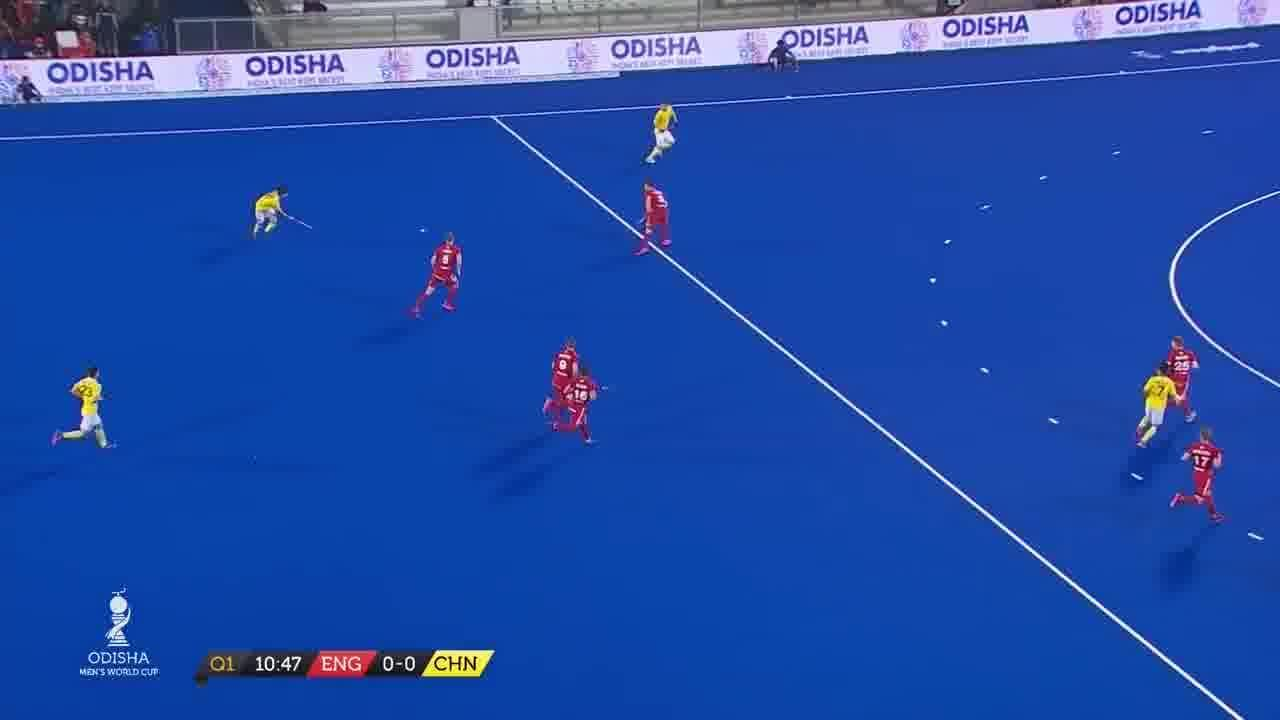ball: (419, 223, 429, 239)
